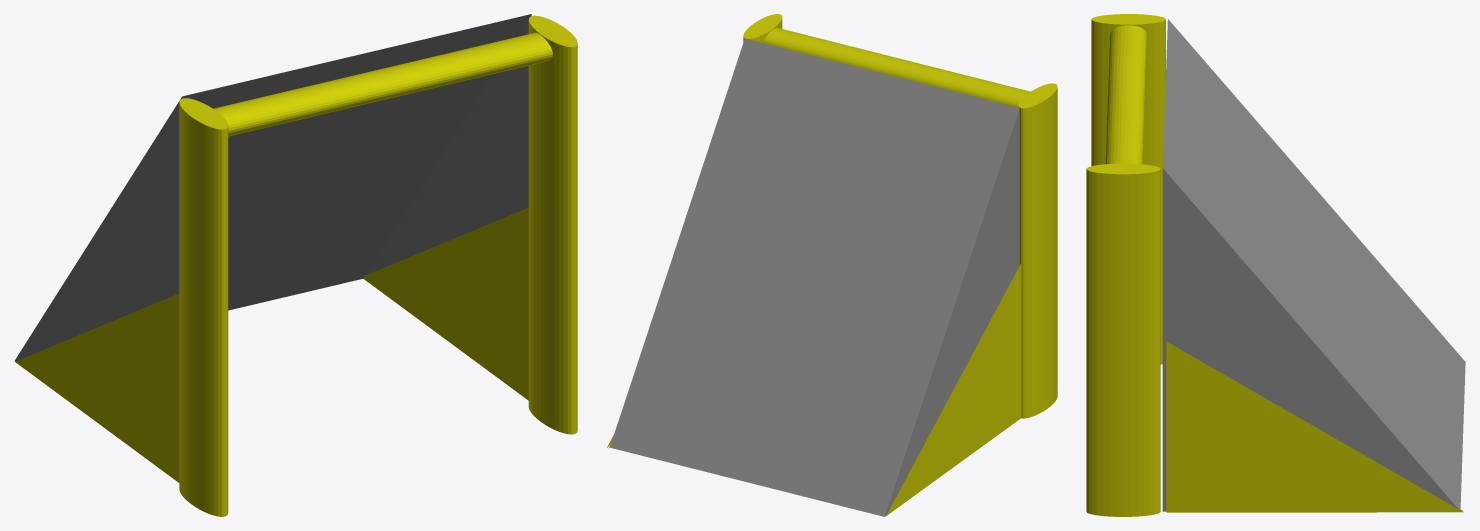
Rendered from leftgoal.obj.
3 renders of one model, left to right at view 1: azimuth 30°, elevation 25°; view 2: azimuth 150°, elevation 25°; view 3: azimuth 270°, elevation 25°, orthographic. The views are drawn at different scales.
Parts seen in each view (by area): view 1: leftgoal; view 2: leftgoal; view 3: leftgoal.
Part boxes in pixels (x1=…): leftgoal: x1=14, y1=14, x2=577, y2=516; leftgoal: x1=607, y1=14, x2=1057, y2=516; leftgoal: x1=1086, y1=14, x2=1465, y2=516.
Bounding box in the file's own units: 1 × 1 × 1.
